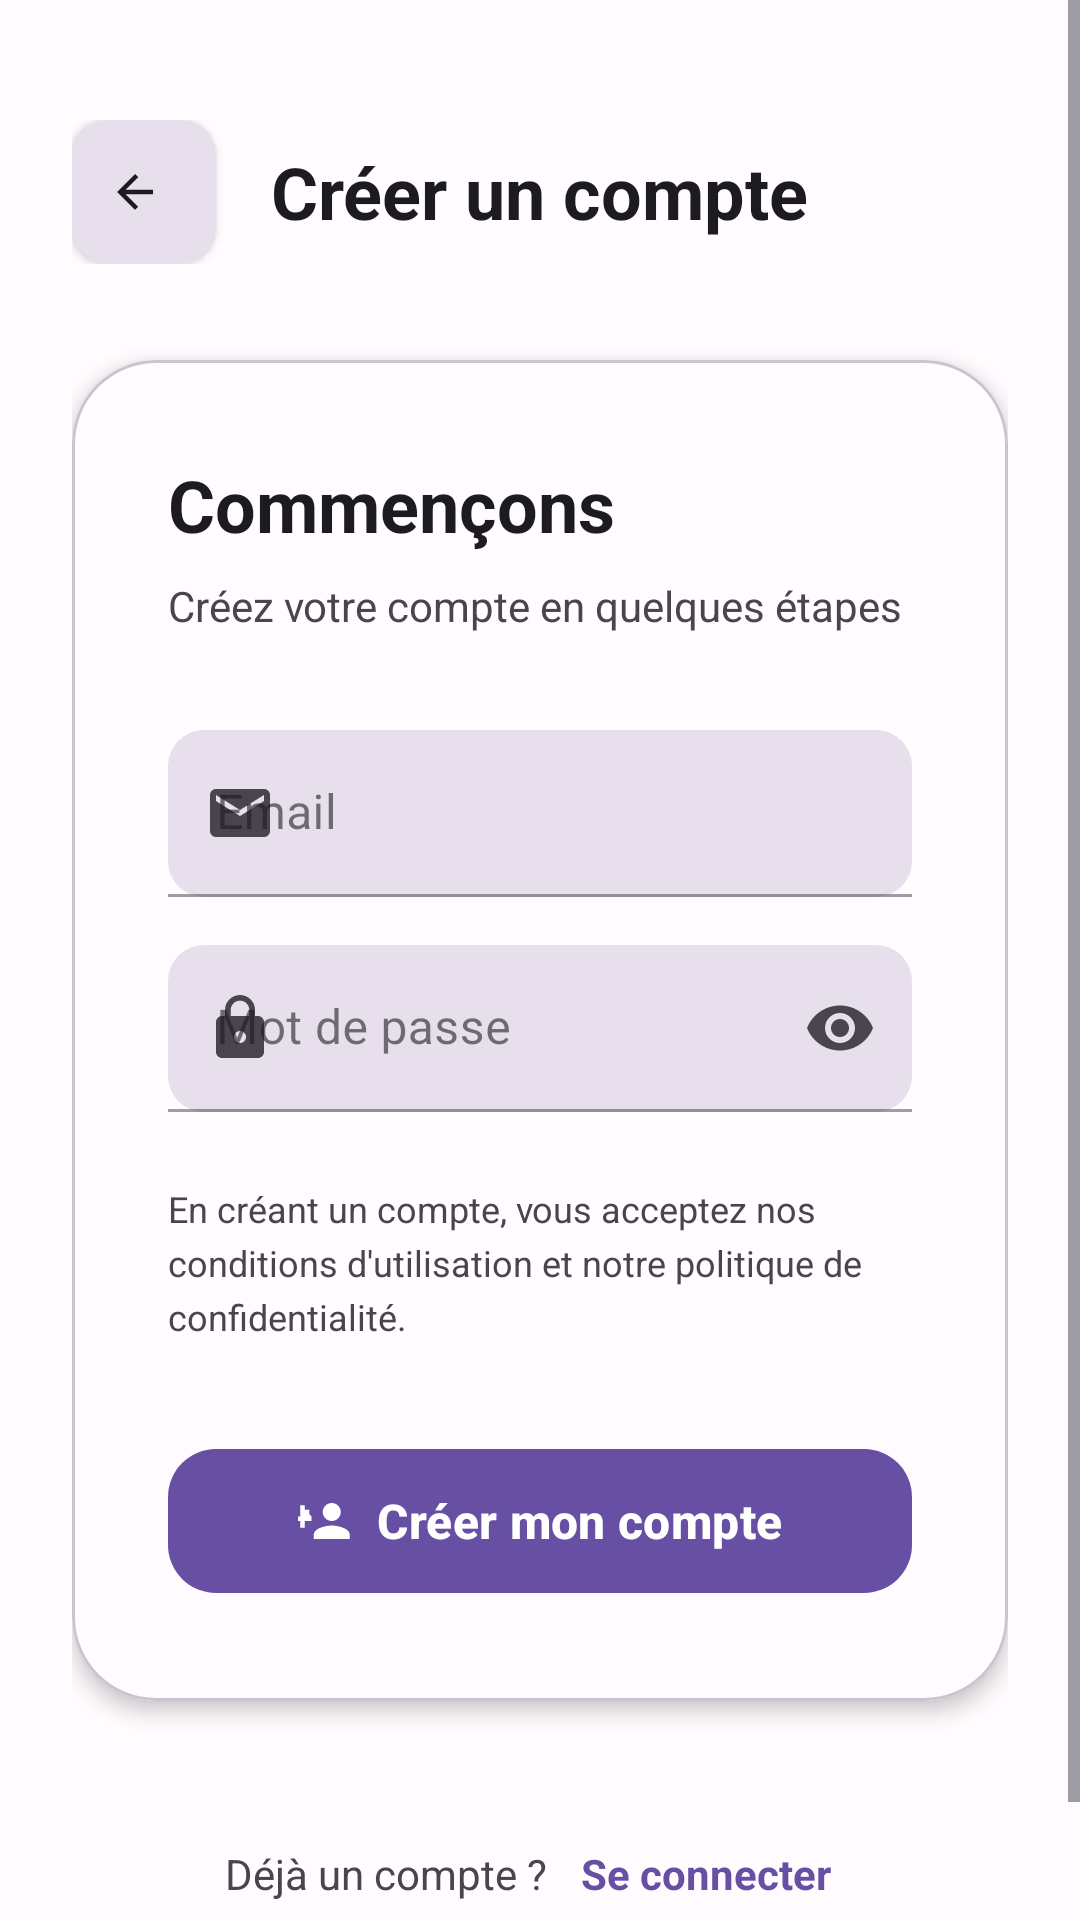

Named icons in this screenshot (1080px x 1920px) and their centers, point (x, y):
arrow back: point (144, 192)
